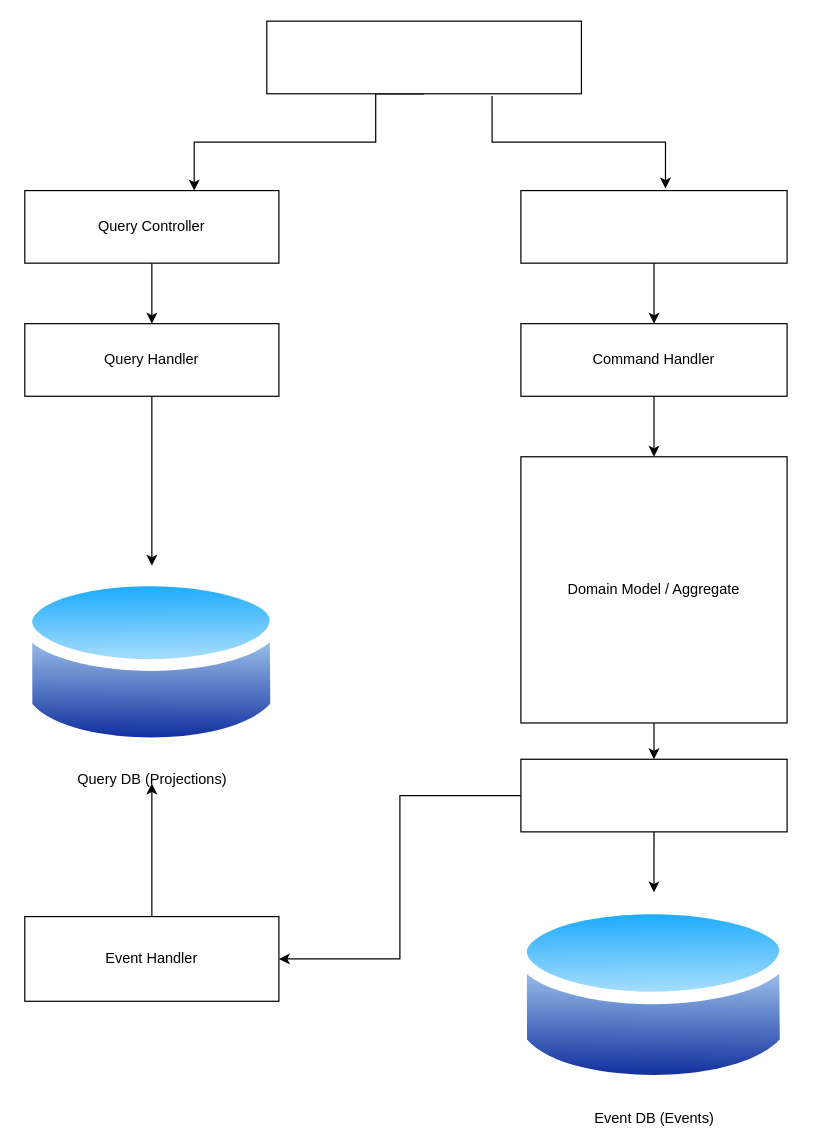
Some shapes in this 813 by 1148 pixel diagram are drawn without their labels. The box of each missing label's shape, as (x1, y1, x2, y2) in pixels:
Client/UI: (266, 20, 581, 94)
Command Controller: (520, 189, 787, 263)
Event: (520, 758, 787, 832)
